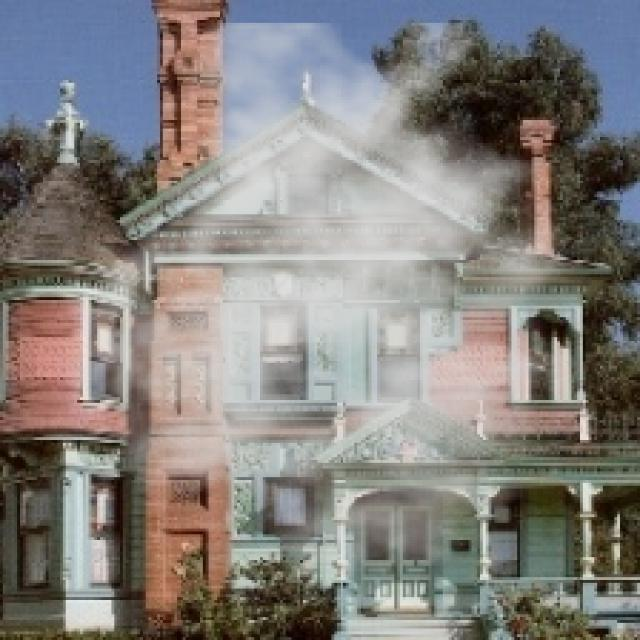smoke: (63, 23, 628, 577)
